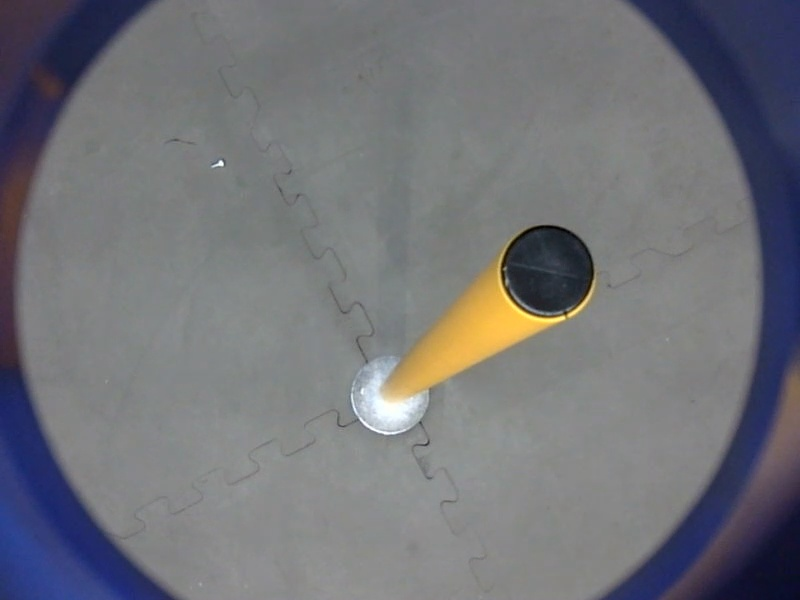tip: (488, 218, 602, 329)
